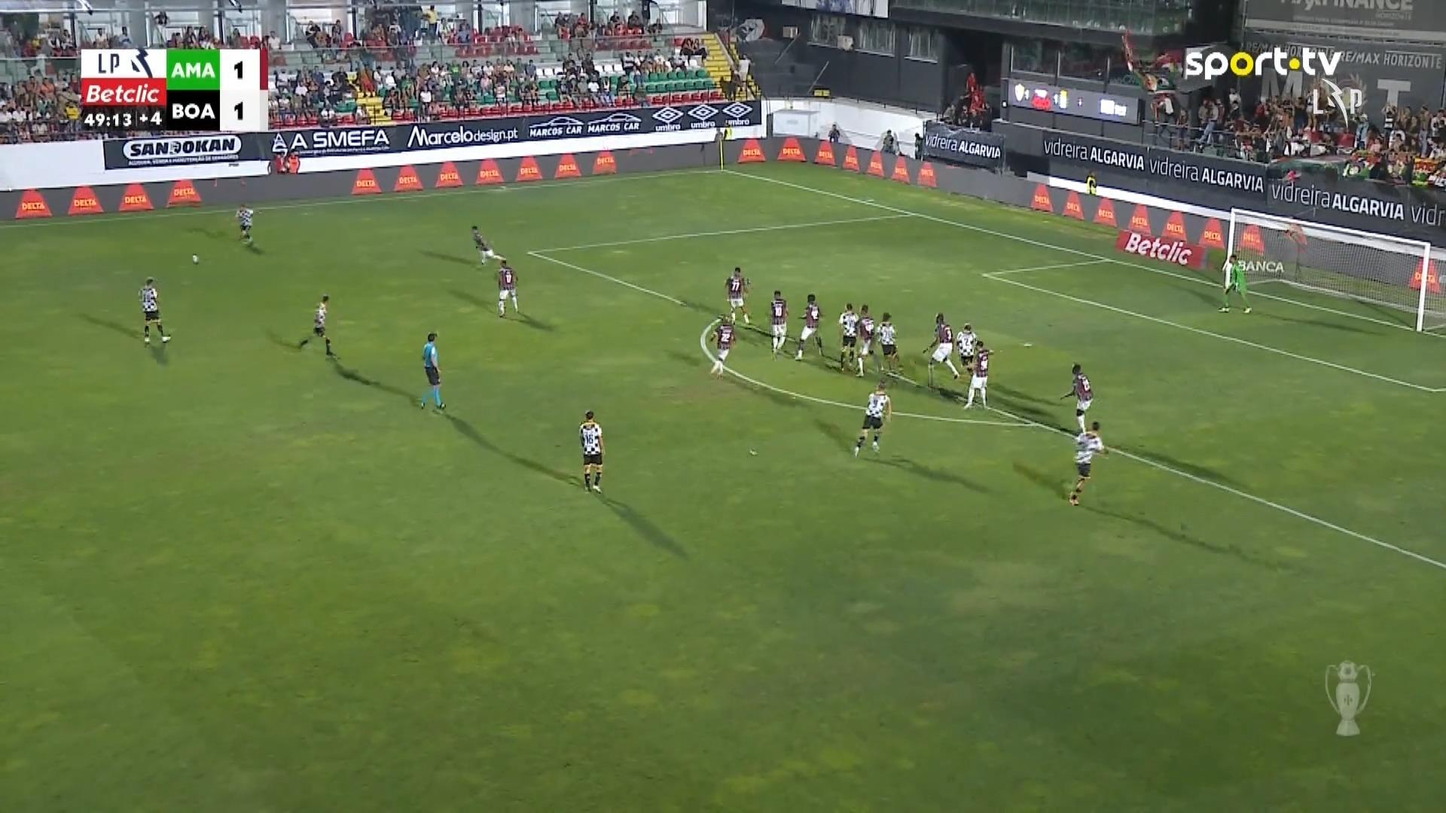ball: (191, 254, 198, 263)
goalkeeper: (1218, 251, 1252, 313)
player: (1068, 419, 1109, 506), (853, 380, 892, 457), (922, 312, 959, 380), (1059, 362, 1093, 434), (138, 276, 171, 345), (297, 294, 333, 356), (578, 410, 605, 492), (962, 340, 993, 410), (794, 293, 824, 360), (853, 303, 877, 376), (708, 314, 735, 378), (724, 266, 752, 325), (876, 312, 902, 375), (837, 302, 859, 372), (470, 224, 506, 266), (768, 289, 789, 357), (496, 258, 519, 317), (955, 321, 978, 373), (235, 202, 254, 243)
referee: (419, 331, 446, 410)
